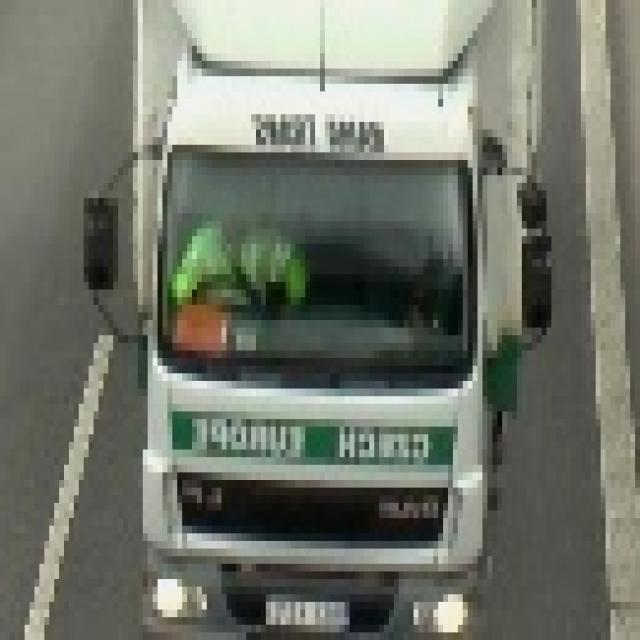truck: (85, 1, 548, 626)
